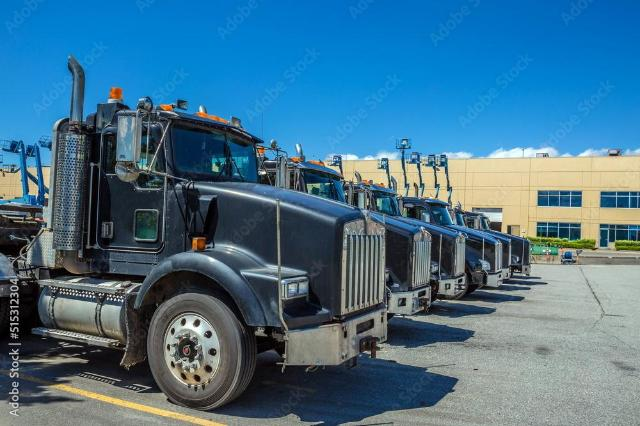truck: (36, 64, 394, 406)
